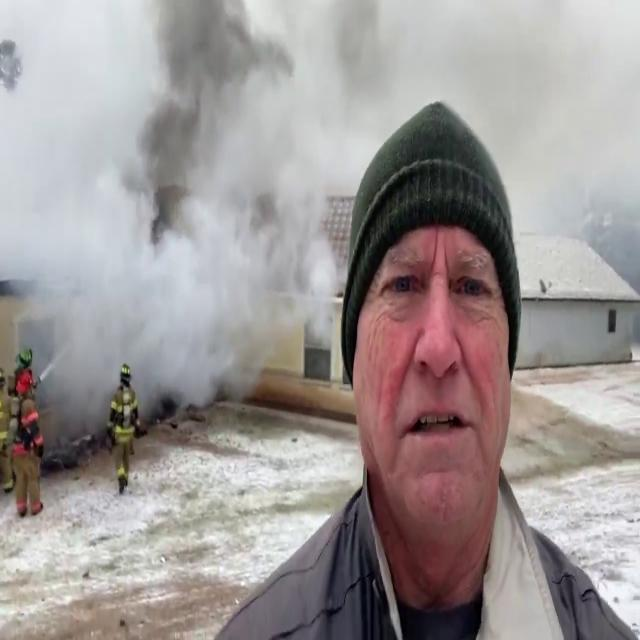Smoke: (0, 0, 367, 445)
